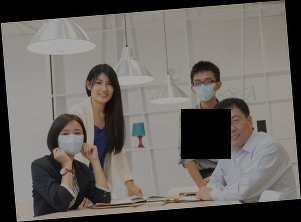with_mask: (57, 126, 85, 157), (192, 75, 220, 103)
without_mask: (216, 112, 250, 148), (90, 77, 113, 104)
